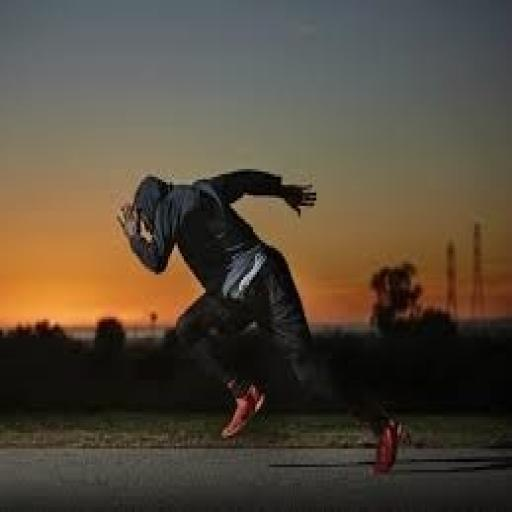running: (113, 164, 411, 478)
